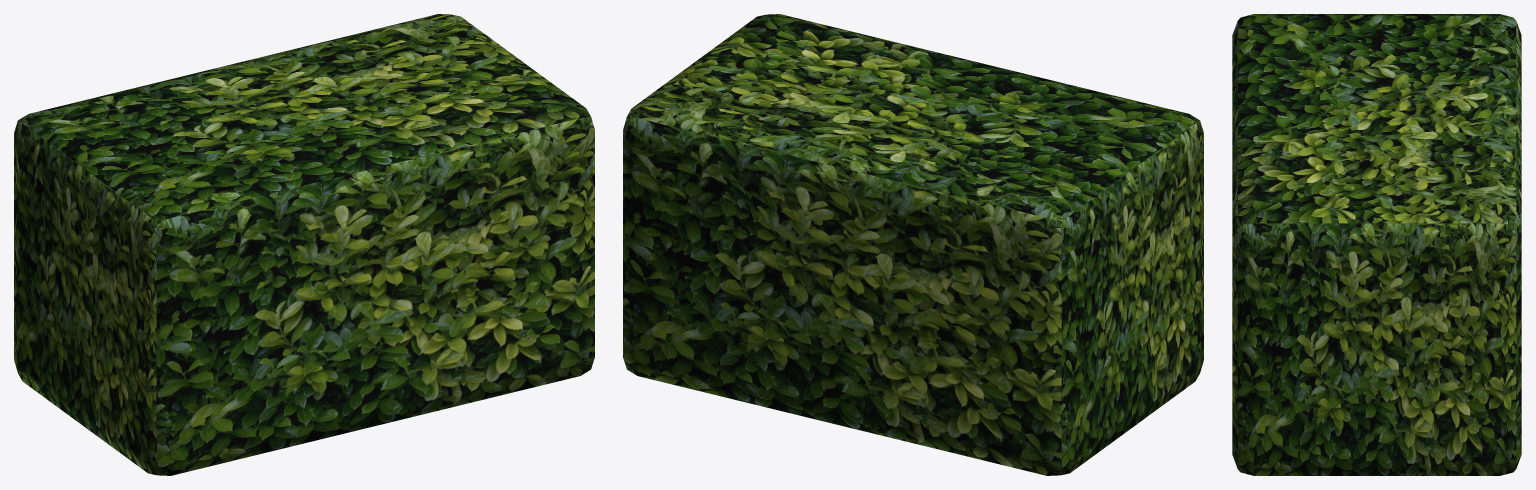
The model's file is SM_Bush.fbx.
3 renders of one model, left to right at view 1: azimuth 30°, elevation 25°; view 2: azimuth 150°, elevation 25°; view 3: azimuth 270°, elevation 25°, orthographic. The views are drawn at different scales.
Parts seen in each view (by area): view 1: SM_Bush; view 2: SM_Bush; view 3: SM_Bush.
Boxes of the visible parts, <box> form: SM_Bush: <box>14,14,594,475</box>; SM_Bush: <box>623,14,1203,475</box>; SM_Bush: <box>1232,14,1521,475</box>.
Bounding box in the file's own units: 350 × 200 × 200.
Materials: 1 (1 with a texture image).
